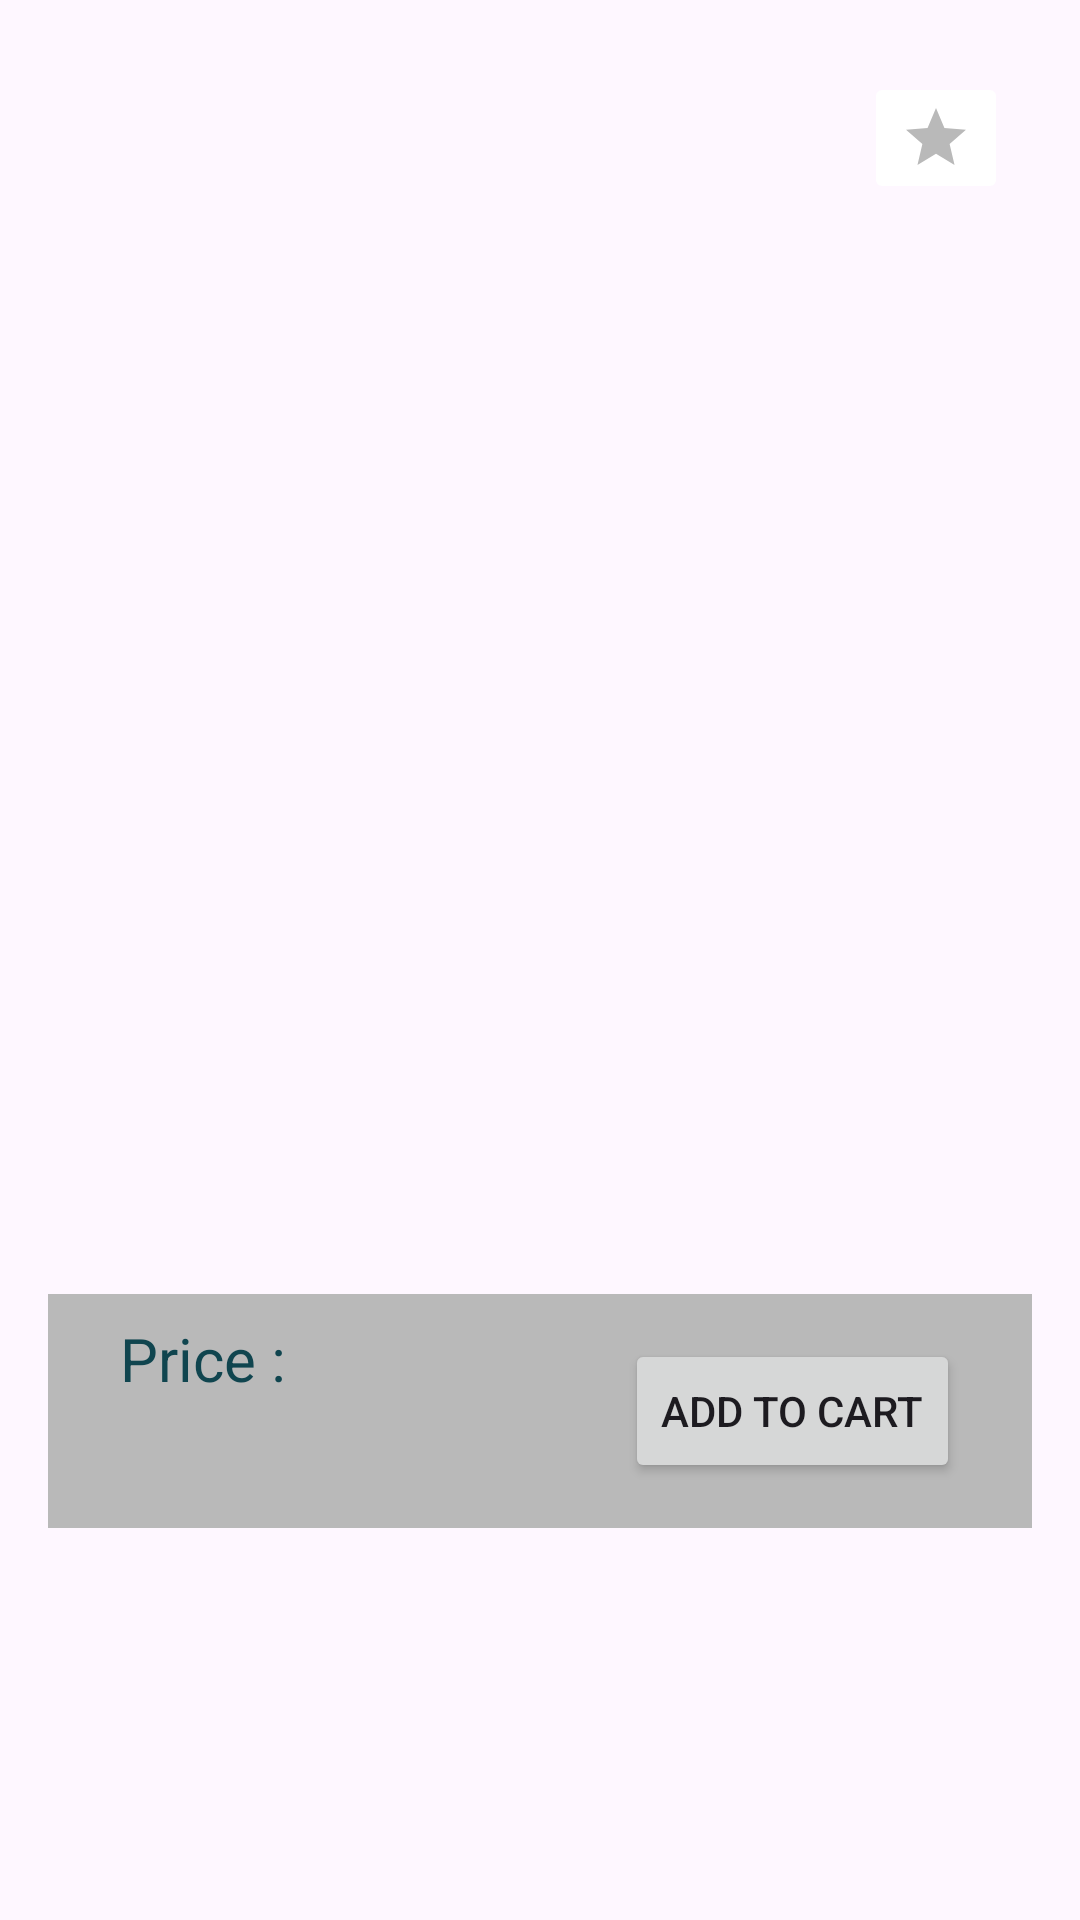

Named icons in this screenshot (1080px×1920px) and their bounding boxes, region(x1, y1, x2, y2):
star: region(907, 109, 965, 165)
